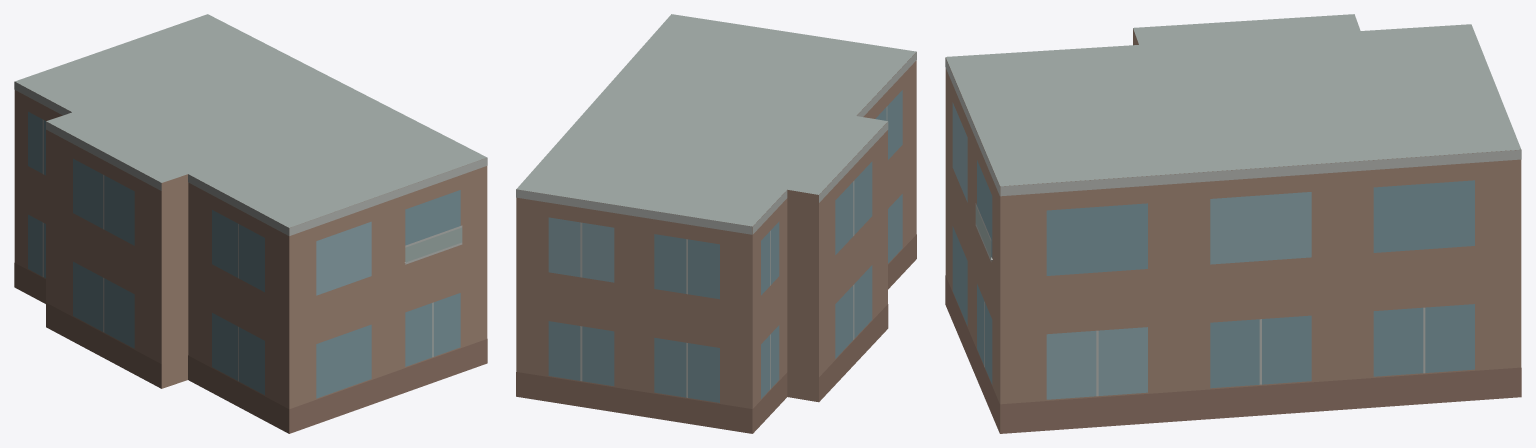
File: survey-upis-32606814.glb
3 views of the same model, side by side, from view 1: azimuth 30°, elevation 25°; view 2: azimuth 150°, elevation 25°; view 3: azimuth 270°, elevation 25° (orthographic). The views are drawn at different scales.
Visible parts, largest first — view 1: survey-upis-32606814.tmp; view 2: survey-upis-32606814.tmp; view 3: survey-upis-32606814.tmp.
Part boxes in pixels (x1,y1,x2,y2): survey-upis-32606814.tmp: (14,14,487,433); survey-upis-32606814.tmp: (516,14,916,433); survey-upis-32606814.tmp: (945,14,1521,433).
Size of the model in its own units: 9.12 by 6.1 by 12.88.
